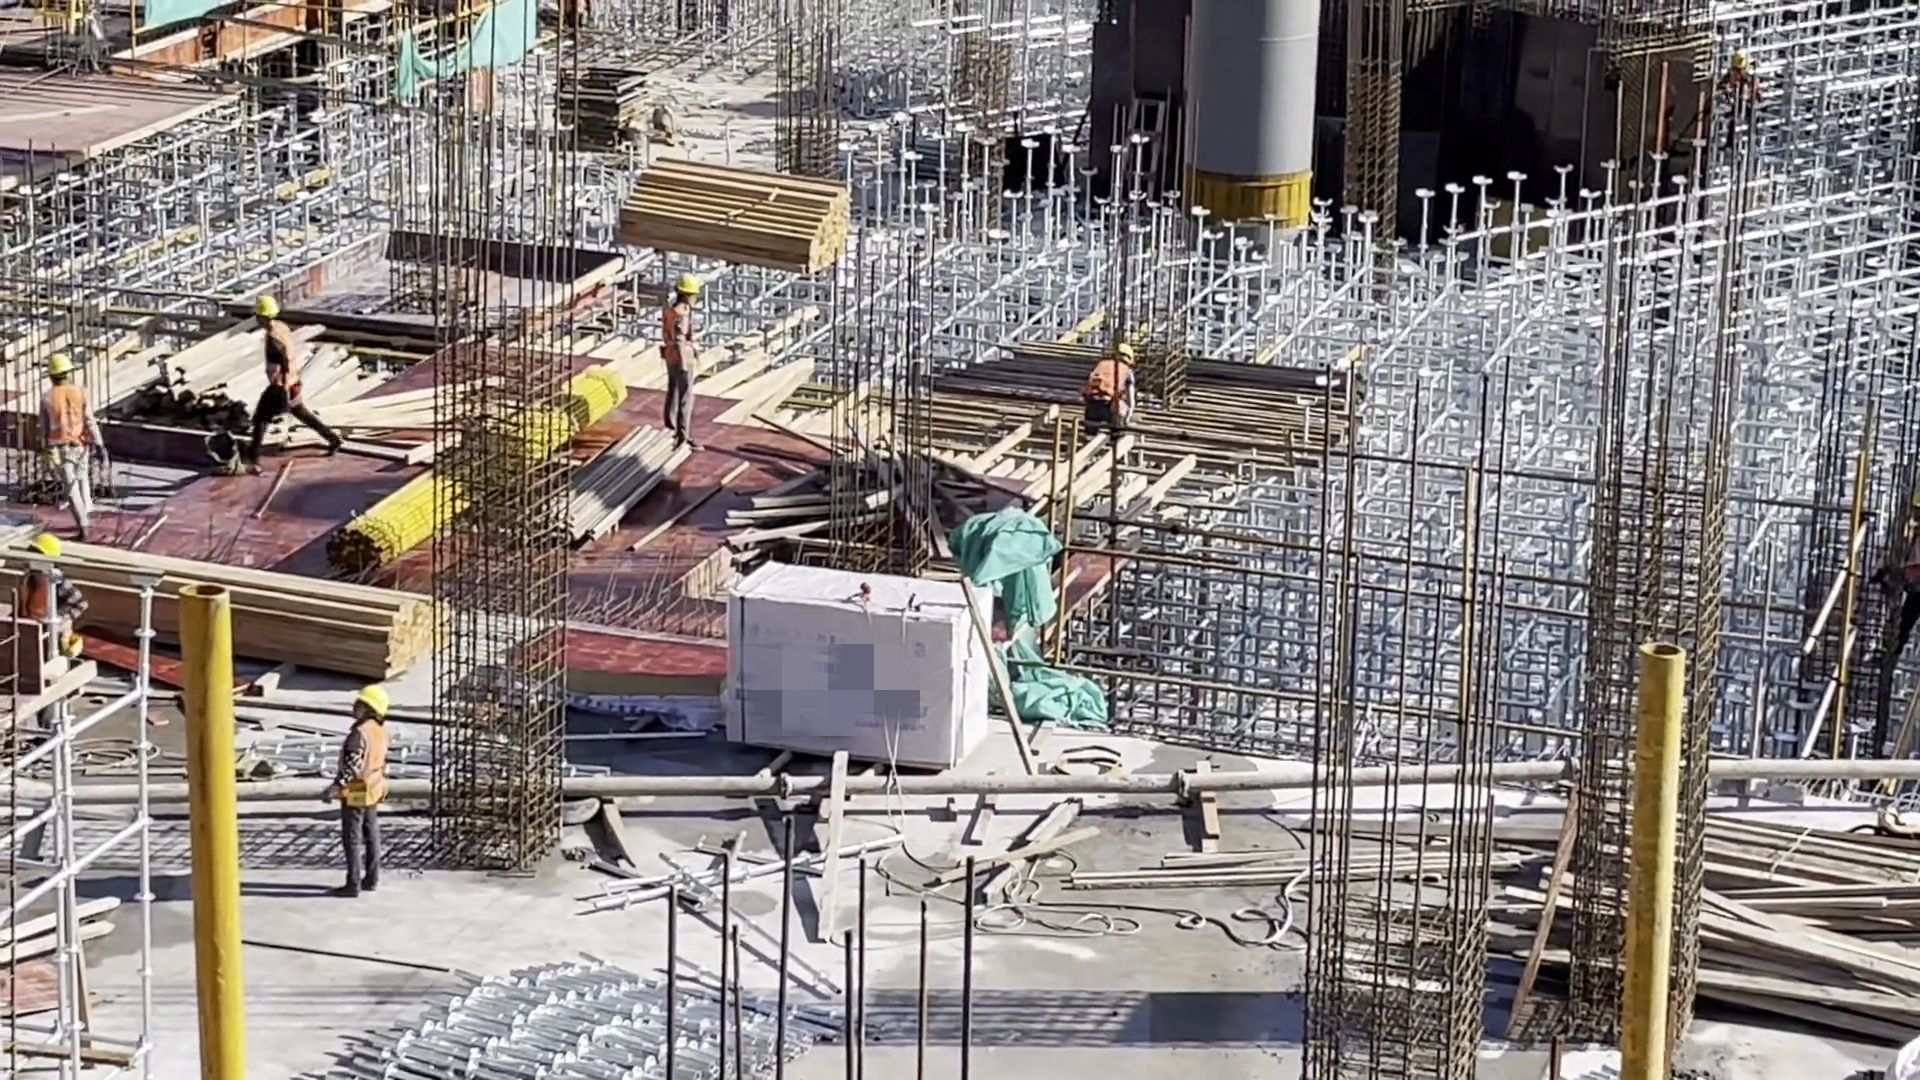helmet: (358, 680, 389, 716), (33, 532, 65, 560), (258, 291, 278, 320), (44, 357, 76, 375), (1726, 50, 1751, 71), (1113, 342, 1139, 358), (678, 276, 698, 293)
person: (244, 291, 348, 476), (36, 356, 118, 542), (332, 680, 397, 895), (655, 268, 708, 450), (17, 532, 84, 645), (1086, 341, 1143, 431), (1718, 49, 1759, 115)
vest: (340, 720, 392, 812), (43, 383, 92, 450), (261, 327, 302, 405), (658, 302, 696, 363), (1089, 355, 1129, 404)
